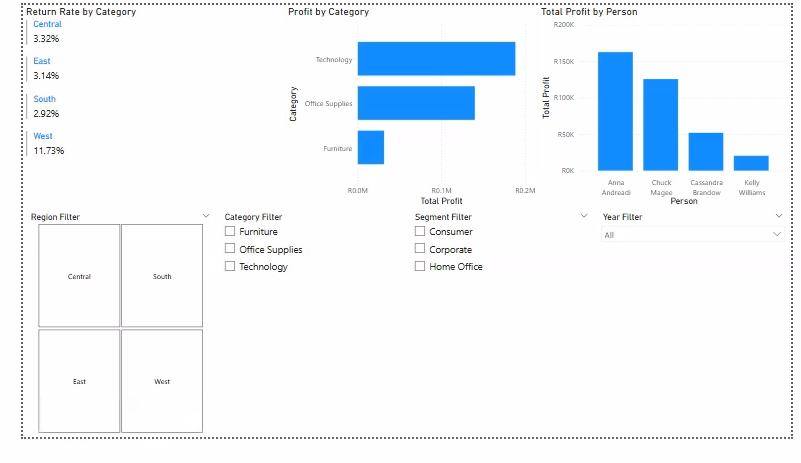

The dashboard page shown, as its layout file describes it:
{"tool":"powerbi","page":{"name":"Returns","canvas":[1280,720],"ordinal":2},"visuals":[{"type":"multiRowCard","title":"Return Rate by Category","fields":{"Values":["Orders.Region","Orders.Return Rate"]},"box":[0,0,422,340],"z":0},{"type":"columnChart","title":"Total Profit by Person","fields":{"Category":["Orders.Person"],"Y":["Orders.Total Profit"]},"box":[858,0,422,340],"z":1000},{"type":"barChart","title":"Profit by Category","fields":{"Category":["Orders.Category"],"Y":["Orders.Total Profit"]},"box":[436,0,422,340],"z":2000},{"type":"slicer","fields":{"Values":["Orders.Region"]},"box":[0,340,324,380],"z":3000},{"type":"slicer","fields":{"Values":["Orders.Category"]},"box":[324,340,316,380],"z":4000},{"type":"slicer","fields":{"Values":["Orders.Segment"]},"box":[640,340,314,380],"z":5000},{"type":"slicer","fields":{"Values":["Orders.Year"]},"box":[954,340,326,380],"z":6000}]}

Visuals, with their boxes in screenshot pixels (x1, y1, x2, y2), scaled from the page's 1280x720 canvas onto the 801x463 screenshot:
"Return Rate by Category" multiRowCard: (0, 0, 264, 219)
"Total Profit by Person" columnChart: (537, 0, 800, 219)
"Profit by Category" barChart: (273, 0, 537, 219)
slicer - Orders.Region: (0, 219, 203, 462)
slicer - Orders.Category: (203, 219, 400, 462)
slicer - Orders.Segment: (400, 219, 597, 462)
slicer - Orders.Year: (597, 219, 800, 462)
